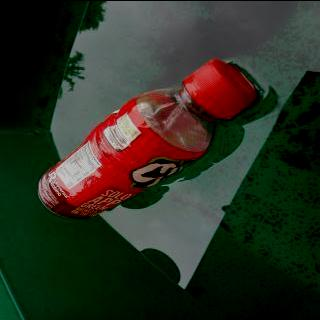bottle: (34, 56, 262, 219)
